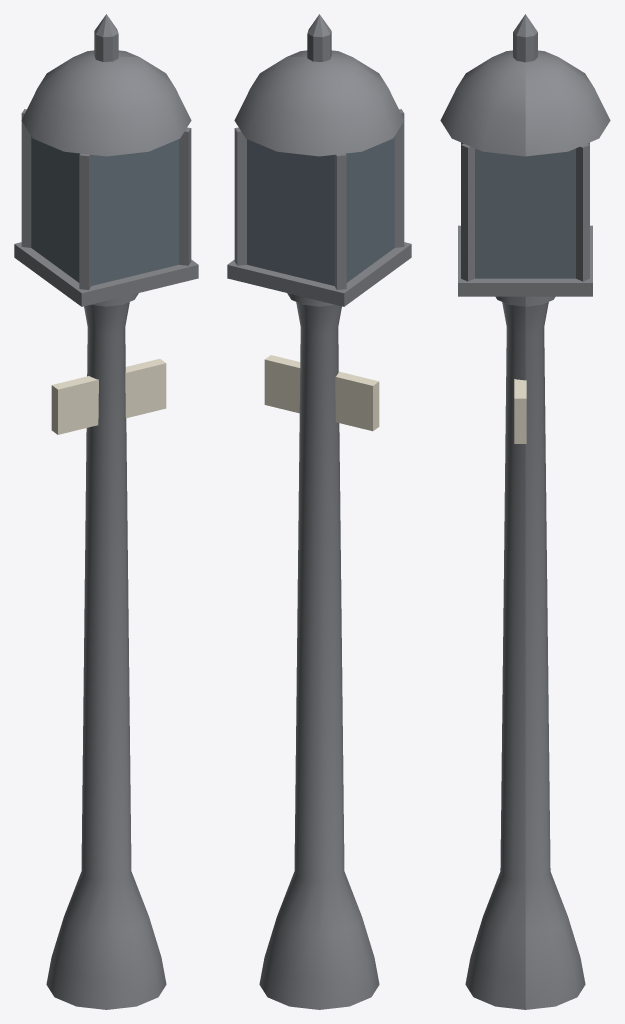
The model's file is steam-era-railway-and-rolling-stock-lamp-post-1e42f0ef.glb.
3 renders of one model, left to right at view 1: azimuth 30°, elevation 25°; view 2: azimuth 150°, elevation 25°; view 3: azimuth 270°, elevation 25°, orthographic.
Visible parts, largest first — view 1: lamp-post; view 2: lamp-post; view 3: lamp-post.
Boxes of the visible parts, box(x1,y1,x2,y2) form: lamp-post: box(14, 14, 198, 1009); lamp-post: box(227, 14, 411, 1009); lamp-post: box(440, 14, 610, 1009).
Bounding box in the file's own units: 0.6797 × 4.28 × 0.6797.
